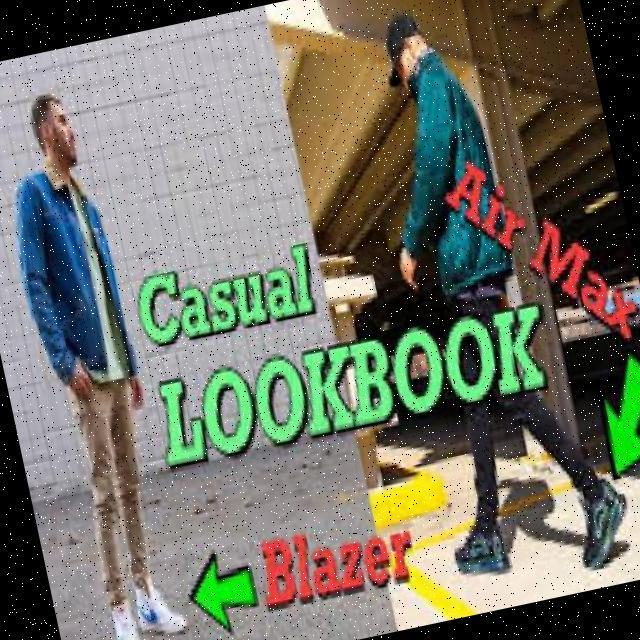Nike: (136, 598, 154, 623)
